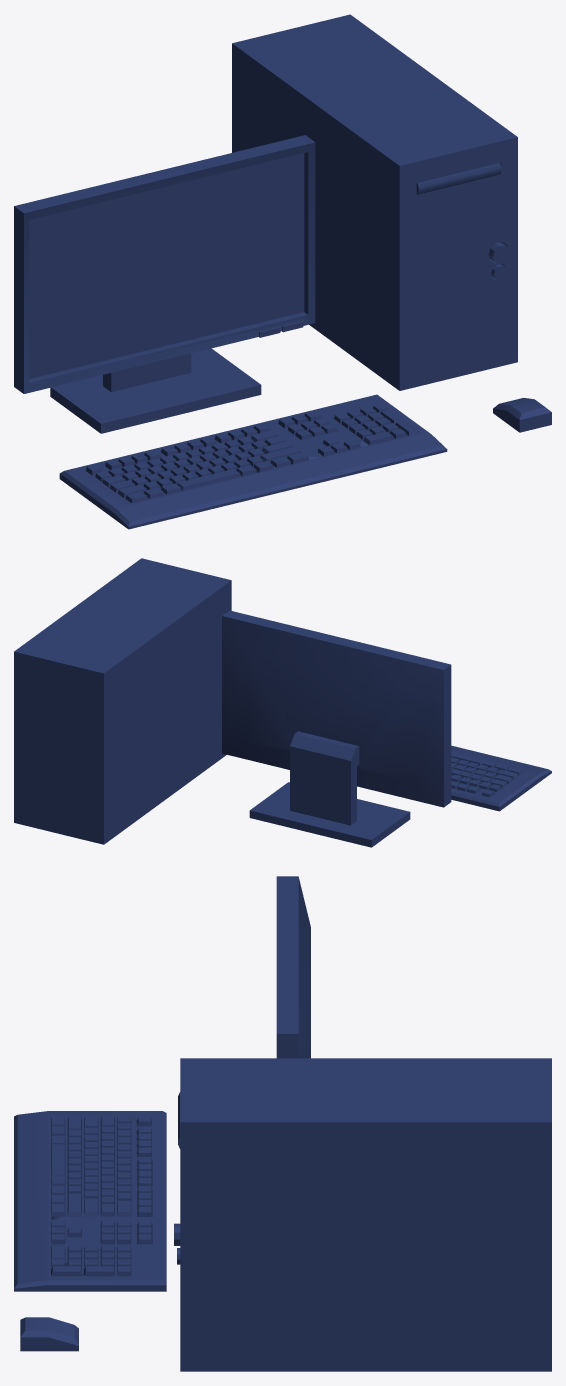
Rendered from GameOff2024Computer.fbx.
3 views of the same model, one above another, from view 1: azimuth 30°, elevation 25°; view 2: azimuth 150°, elevation 25°; view 3: azimuth 270°, elevation 25° (orthographic). The views are drawn at different scales.
Visible parts, largest first — view 1: Computer; view 2: Computer; view 3: Computer.
Part boxes in pixels (<box>): Computer: <box>14,14,551,529</box>; Computer: <box>14,558,551,847</box>; Computer: <box>14,876,551,1371</box>.
Bounding box in the file's own units: 1.16 × 1.05 × 0.5459.
